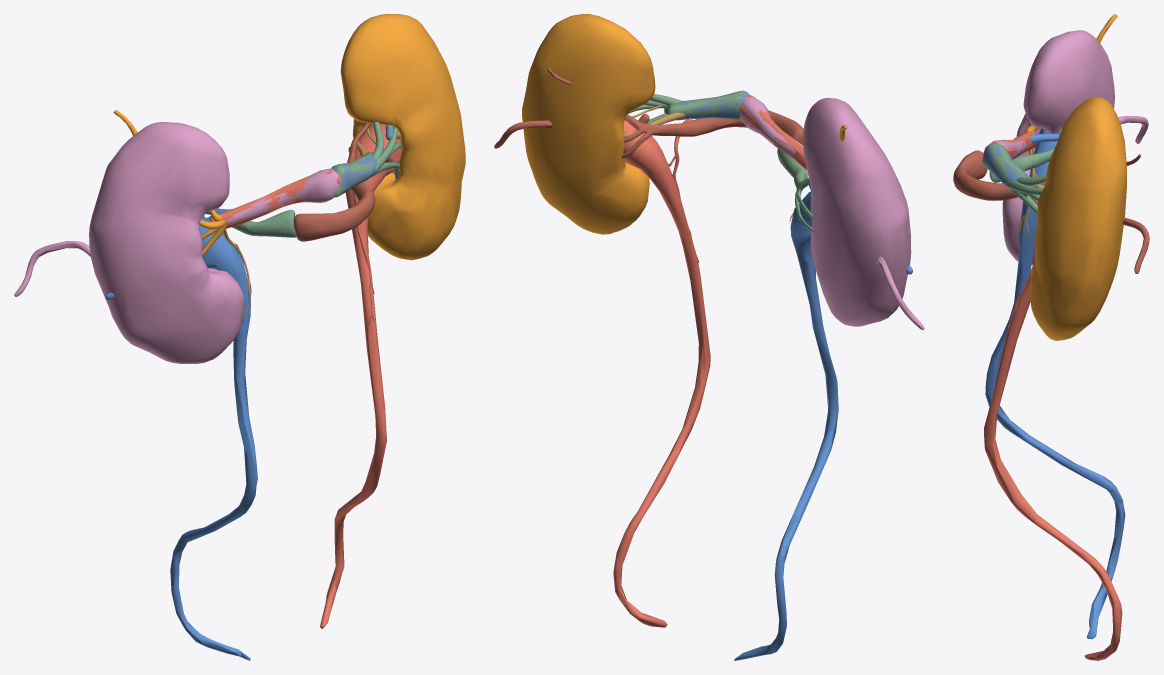
The model's file is kidneys.glb.
3 renders of one model, left to right at view 1: azimuth 30°, elevation 25°; view 2: azimuth 150°, elevation 25°; view 3: azimuth 270°, elevation 25°, orthographic.
Parts seen in each view (by area): view 1: Right kidney, Left kidney, Right ureter, Left ureter, Left renal vein, Trunk of right renal artery, Right renal artery, Right renal vein, Posterior segmental branch of right renal artery, Trunk of left renal artery; view 2: Left kidney, Right kidney, Left ureter, Right ureter, Left renal vein (×2), Trunk of right renal artery, Left renal artery, Right renal artery, Trunk of left renal artery; view 3: Left kidney, Right kidney, Right ureter, Left ureter, Left renal vein, Trunk of left renal artery, Left renal artery, Posterior segmental branch of left renal artery, Right renal vein, Right renal artery, Posterior segmental branch of right renal artery, Trunk of right renal artery.
Boxes of the visible parts, box(x1,y1,x2,y2) form: Right kidney: box(89, 122, 244, 363); Left kidney: box(340, 14, 465, 260); Right ureter: box(170, 217, 257, 660); Left ureter: box(320, 124, 401, 628); Left renal vein: box(294, 157, 375, 241); Trunk of right renal artery: box(224, 168, 338, 223); Right renal artery: box(211, 169, 341, 229); Right renal vein: box(232, 209, 296, 237); Posterior segmental branch of right renal artery: box(14, 241, 90, 296); Trunk of left renal artery: box(331, 154, 377, 193); Left kidney: box(522, 14, 655, 234); Right kidney: box(803, 97, 911, 326); Left ureter: box(613, 120, 710, 627); Right ureter: box(734, 191, 838, 660); Left renal vein (×2): box(621, 110, 803, 158); Trunk of right renal artery: box(740, 95, 803, 159); Left renal artery: box(664, 90, 749, 120); Right renal artery: box(740, 95, 806, 170); Trunk of left renal artery: box(668, 91, 748, 119); Left kidney: box(1030, 96, 1126, 340); Right kidney: box(1002, 30, 1114, 265); Right ureter: box(985, 128, 1125, 639); Left ureter: box(984, 273, 1122, 660); Left renal vein: box(953, 150, 1044, 200); Trunk of left renal artery: box(982, 143, 1027, 192); Left renal artery: box(982, 143, 1038, 197); Posterior segmental branch of left renal artery: box(1122, 217, 1149, 273); Right renal vein: box(989, 153, 1045, 182); Right renal artery: box(984, 131, 1036, 159); Posterior segmental branch of right renal artery: box(1118, 116, 1148, 143); Trunk of right renal artery: box(982, 136, 1026, 159).
Bounding box in the file's own units: 1.47 × 2 × 0.5895.
